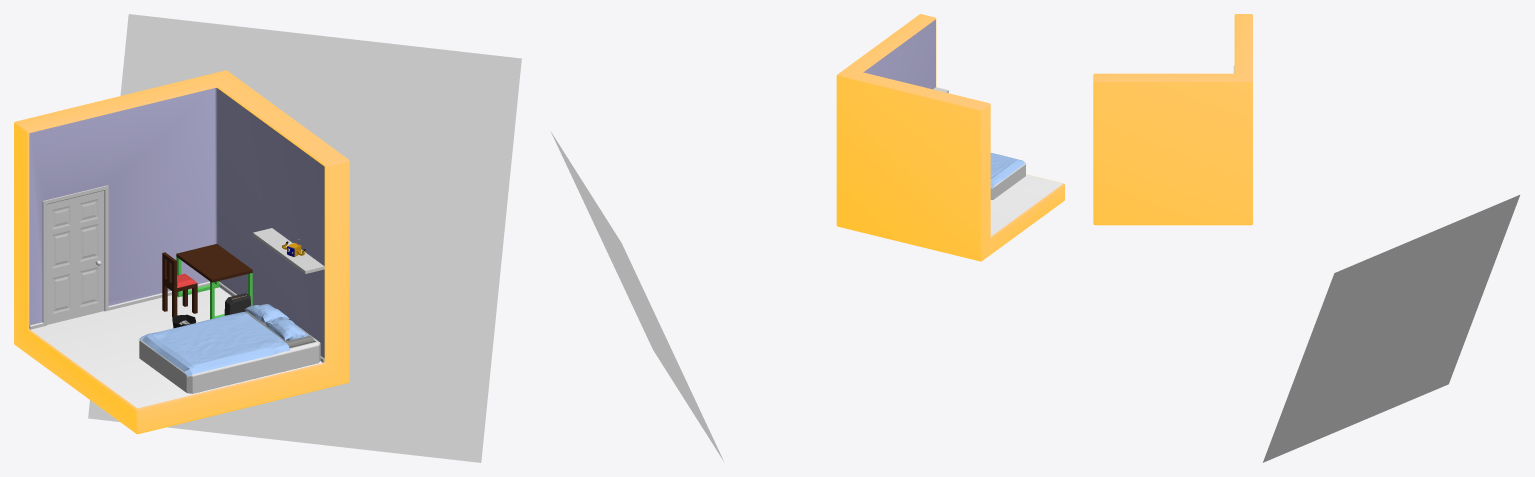
The model's file is CozyRoom.glb.
3 views of the same model, side by side, from view 1: azimuth 30°, elevation 25°; view 2: azimuth 150°, elevation 25°; view 3: azimuth 270°, elevation 25° (orthographic). The views are drawn at different scales.
Parts seen in each view (by area): view 1: Plane.020, Cube.027, Cube.004, Plane.002, Cube.002, Cube.018, Cube.023, Cube.008, Cube.005, Cube.007, Plane.004, Plane.003; view 2: Cube.027, Plane.020, Plane.002; view 3: Plane.020, Cube.027.
Boxes of the visible parts, x1,y1,x2,y2 form: Plane.020: (88, 14, 521, 462); Cube.027: (14, 70, 349, 434); Cube.004: (47, 190, 103, 324); Plane.002: (138, 312, 290, 376); Cube.002: (139, 311, 320, 393); Cube.018: (176, 244, 252, 319); Cube.023: (162, 252, 197, 317); Cube.008: (253, 228, 324, 273); Cube.005: (42, 200, 46, 326); Cube.007: (104, 185, 108, 311); Plane.004: (265, 319, 308, 340); Plane.003: (245, 304, 289, 323); Cube.027: (836, 14, 1064, 261); Plane.020: (551, 132, 723, 461); Plane.002: (990, 153, 1025, 188); Plane.020: (1263, 195, 1519, 462); Cube.027: (1093, 14, 1252, 225).
Size of the model in its own units: 6.04 by 4.68 by 6.05.
